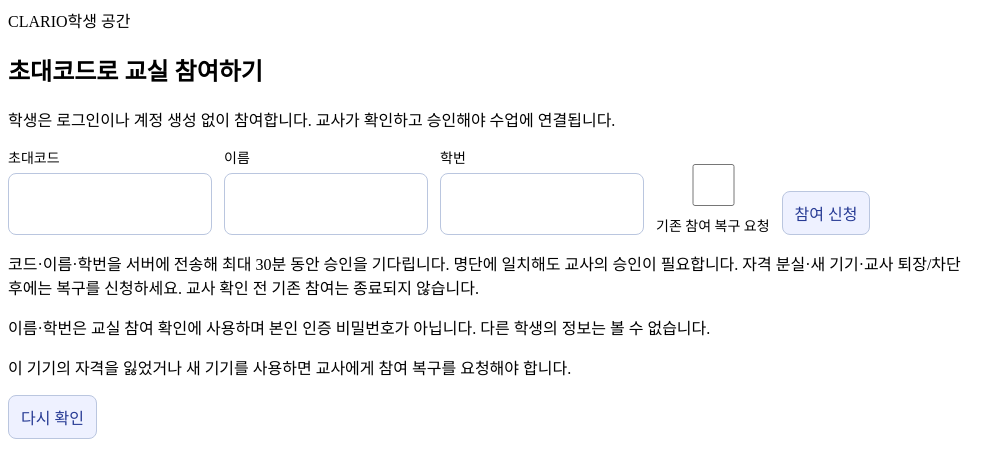
Test: account-free student workspace › submits code/name/string student number without credentials and shows only own pending state
Type "ABCDEFGHJKLM" into the field labelled "초대코드" at (110, 204), box [8,173,212,235]
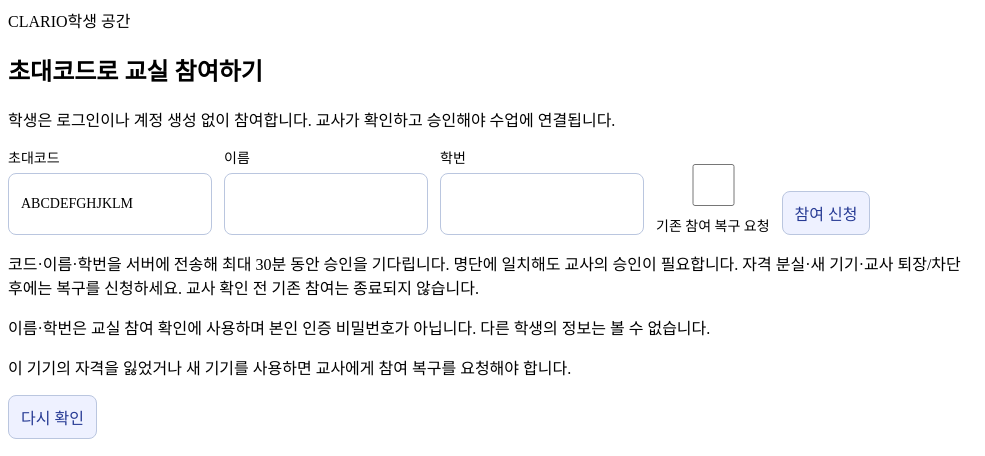
Type "학생" into the field labelled "이름" at (326, 204), box [224,173,428,235]
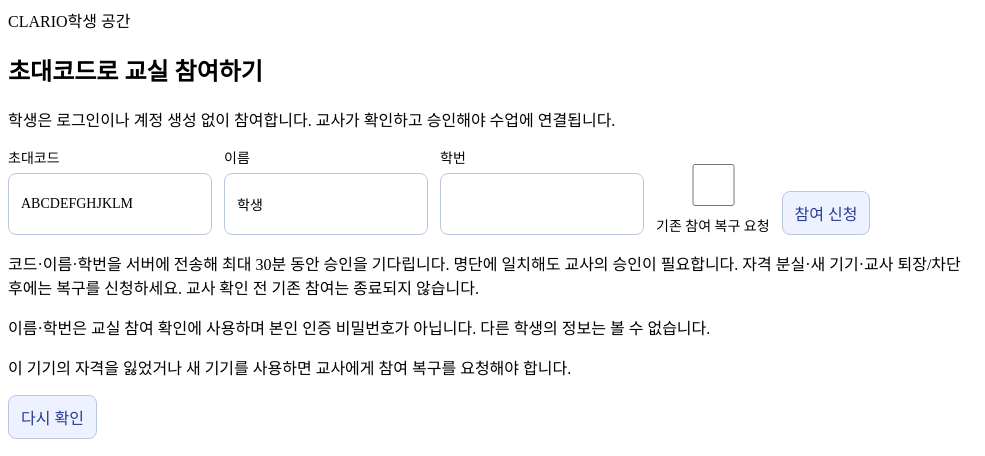
Type "001" into the field labelled "학번" at (542, 204), box [440,173,644,235]
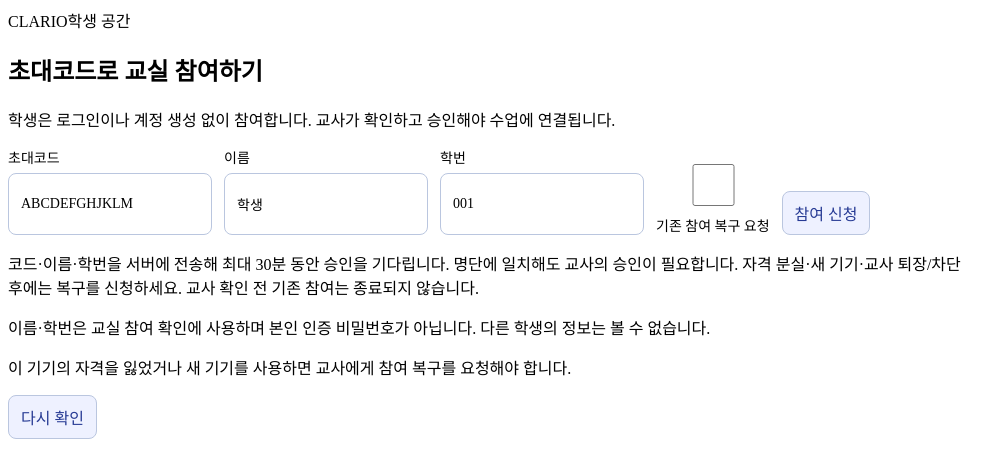
Submit the form "참여 신청", box [8,147,968,235]
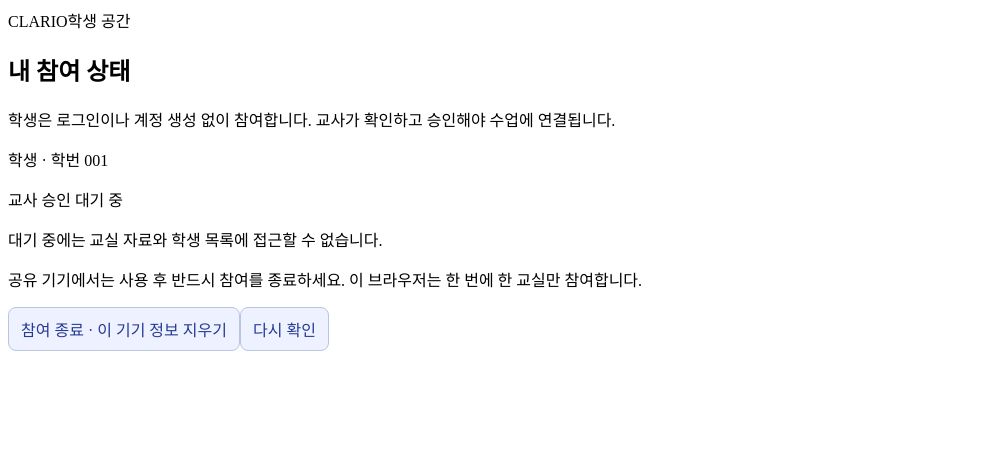
Expected: the text "교사 승인 대기 중" is shown, [8,192,123,209]
Expected: the heading labelled "초대코드" is gone
